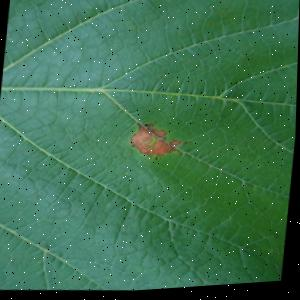Folha: (0, 0, 300, 300)
Fungo: (128, 119, 186, 162), (170, 141, 181, 148)
